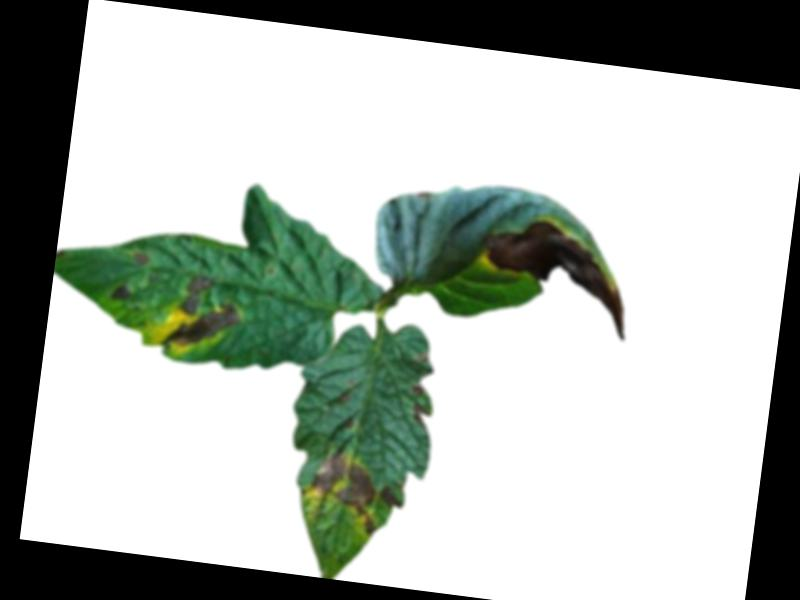Early_blight: (471, 211, 642, 341), (158, 272, 246, 356), (308, 446, 386, 535), (406, 382, 436, 427), (378, 482, 405, 510), (109, 280, 136, 302), (134, 249, 153, 264)
